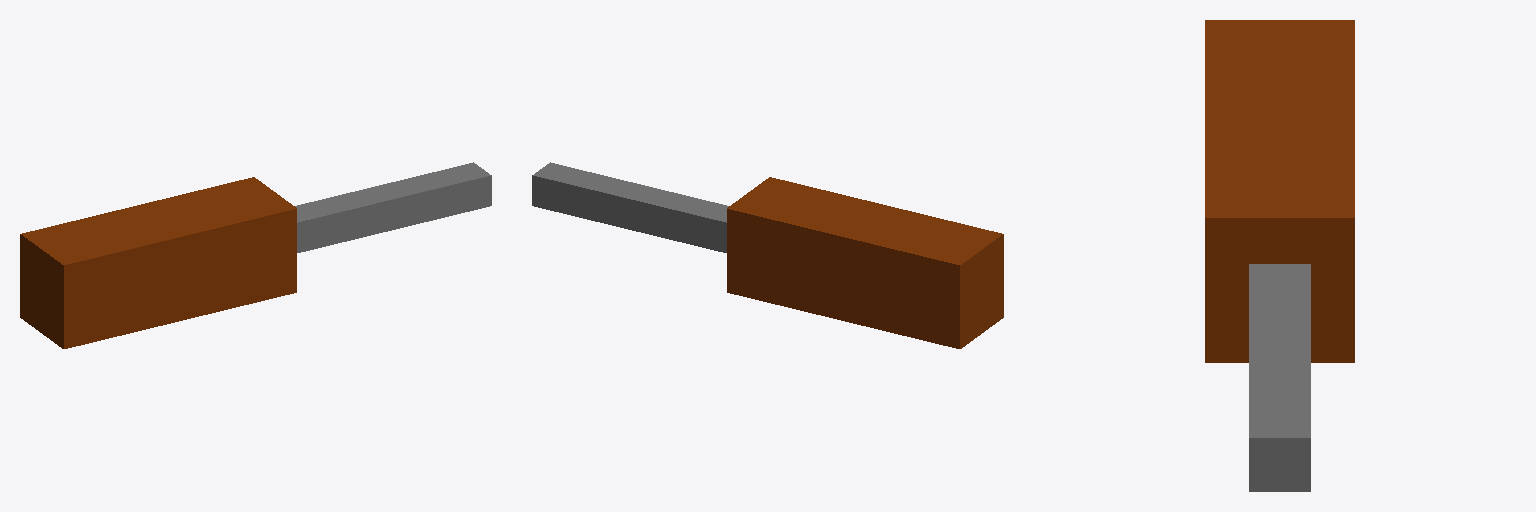
The robot description file, URDF, robot "handle_head":
<?xml version="1.0"?>
<robot name="handle_head">

  <link name="handle_head">
    <!-- Handle -->
    <visual>
              <origin xyz="0 0 0" rpy="0 0 0"/>
        <geometry>
          <box size="0.11087608344134028 0.03553833555322229 0.038082246280266074"/>
        </geometry>
        
      <material name="brown">
        <color rgba="0.55 0.27 0.07 1.0"/>
      </material>
    </visual>
    <collision>
              <origin xyz="0 0 0" rpy="0 0 0"/>
        <geometry>
          <box size="0.11087608344134028 0.03553833555322229 0.038082246280266074"/>
        </geometry>
        
    </collision>

    <!-- Head -->
    <visual>
              <origin xyz="0.10449556946219932 0 0" rpy="0 0 0"/>
        <geometry>
          <box size="0.09811505548305835 0.014540460422086674 0.013953389873697073"/>
        </geometry>
        
      <material name="gray">
        <color rgba="0.5 0.5 0.5 1.0"/>
      </material>
    </visual>
    <collision>
              <origin xyz="0.10449556946219932 0 0" rpy="0 0 0"/>
        <geometry>
          <box size="0.09811505548305835 0.014540460422086674 0.013953389873697073"/>
        </geometry>
        
    </collision>

    <inertial>
      <origin xyz="0.02883570893536565 0 0" rpy="0 0 0"/>
      <mass value="0.08304829514436524"/>
      <inertia ixx="1.4371373728054458e-05" iyy="0.00026881218620240115" izz="0.0002679056673704594" ixy="0" ixz="0" iyz="0"/>
    </inertial>
  </link>

</robot>

--- Facts derived from the render (not from the file) ---
Views: 3 orthographic renders of the robot side by side, from view 1: azimuth 30°, elevation 25°; view 2: azimuth 150°, elevation 25°; view 3: azimuth 270°, elevation 25°.
Robot: handle_head — 1 links, 0 joints (none); root link handle_head; default pose: all joints at 0.
Visible links, largest first — view 1: handle_head; view 2: handle_head; view 3: handle_head.
Boxes of the visible links, x1,y1,x2,y2 form: handle_head: (20, 162, 491, 348); handle_head: (532, 162, 1003, 348); handle_head: (1205, 20, 1354, 491).
Size in the robot's own frame: 0.209 by 0.0355 by 0.0381 metres.
Geometry: primitives only (box / cylinder / sphere), no mesh files.
